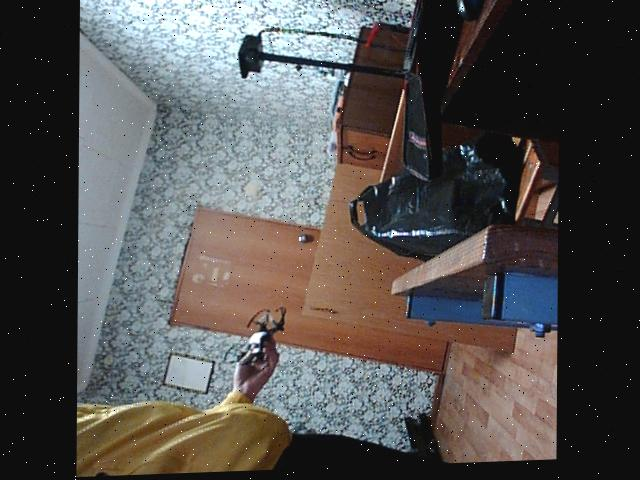drone: (231, 305, 293, 377)
